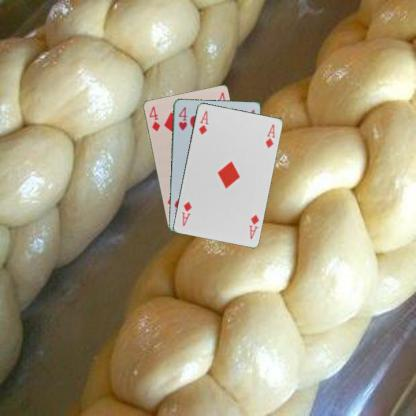4d: (146, 104, 161, 132)
4h: (176, 104, 188, 132)
Ad: (196, 108, 210, 136), (246, 212, 260, 240)
